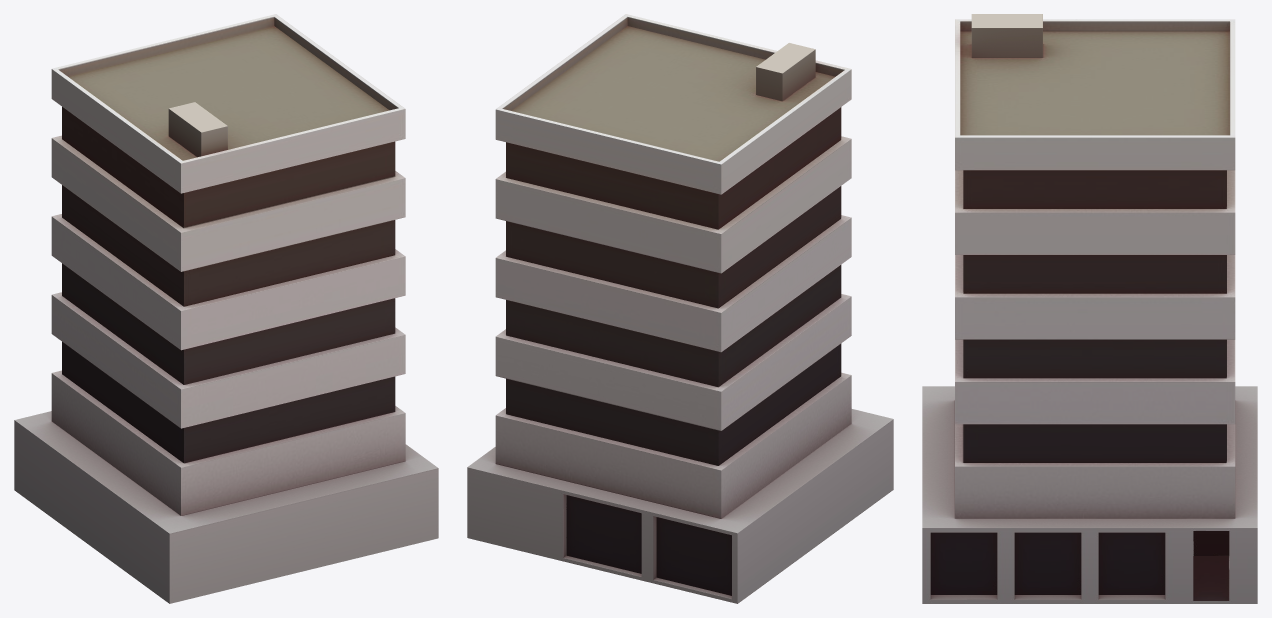
Rendered from edificio-2.glb.
3 views of the same model, side by side, from view 1: azimuth 30°, elevation 25°; view 2: azimuth 150°, elevation 25°; view 3: azimuth 270°, elevation 25° (orthographic). The views are drawn at different scales.
Visible parts, largest first — view 1: Edificio 2.001, Base de edificio, techo de edificio 2; view 2: Edificio 2.001, Base de edificio, techo de edificio 2; view 3: Edificio 2.001, Base de edificio, techo de edificio 2.
Part boxes in pixels (bbox=[...]): Edificio 2.001: bbox=[51, 14, 405, 515]; Base de edificio: bbox=[14, 411, 438, 603]; techo de edificio 2: bbox=[168, 102, 227, 157]; Edificio 2.001: bbox=[495, 14, 851, 518]; Base de edificio: bbox=[467, 409, 893, 603]; techo de edificio 2: bbox=[756, 43, 815, 101]; Edificio 2.001: bbox=[955, 19, 1235, 518]; Base de edificio: bbox=[922, 386, 1257, 603]; techo de edificio 2: bbox=[971, 14, 1042, 57].
Size of the model in its own units: 3.69 by 5.78 by 3.69.
3 materials, 3 textured.
